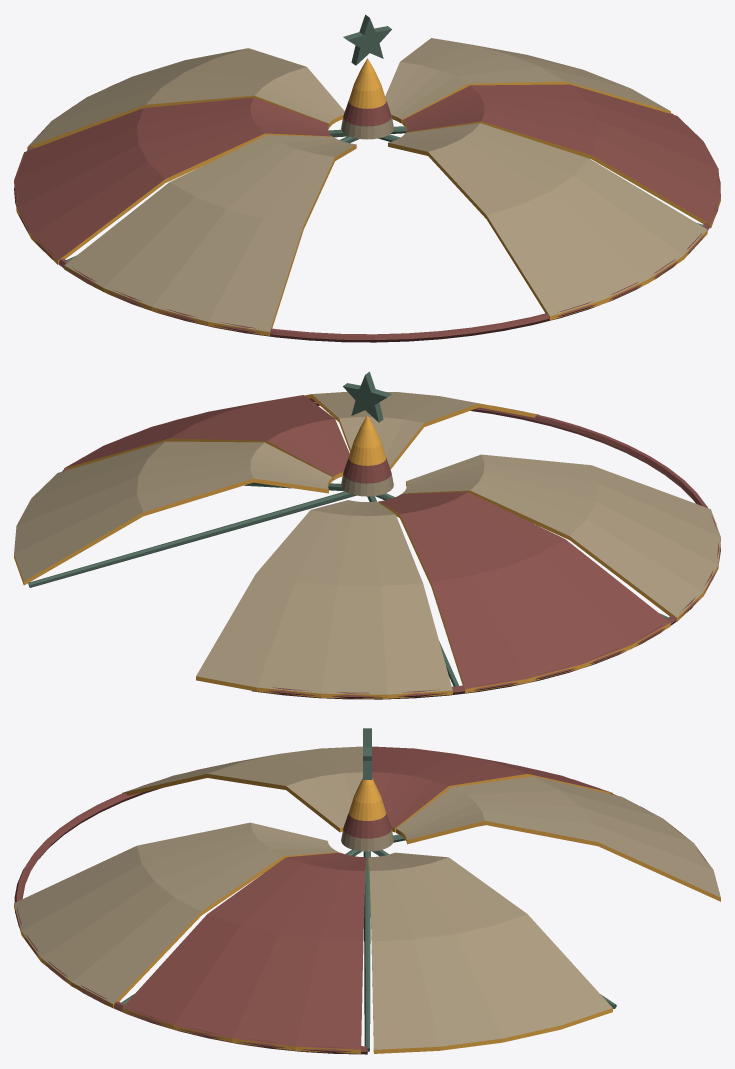
Rendered from ParkParkCanopyNeglected.obj.
3 renders of one model, top to bottom at view 1: azimuth 30°, elevation 25°; view 2: azimuth 150°, elevation 25°; view 3: azimuth 270°, elevation 25°, orthographic.
Visible parts, largest first — view 1: ParkParkCanopyNeglected; view 2: ParkParkCanopyNeglected; view 3: ParkParkCanopyNeglected.
Part boxes in pixels (<box>): ParkParkCanopyNeglected: <box>14,14,720,342</box>; ParkParkCanopyNeglected: <box>14,371,720,699</box>; ParkParkCanopyNeglected: <box>14,728,720,1054</box>.
Bounding box in the file's own units: 18.7 × 5.19 × 18.7.
Materials: 5 (5 with a texture image).
